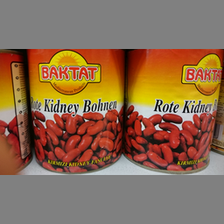beans: (27, 49, 124, 174), (128, 49, 222, 176)
